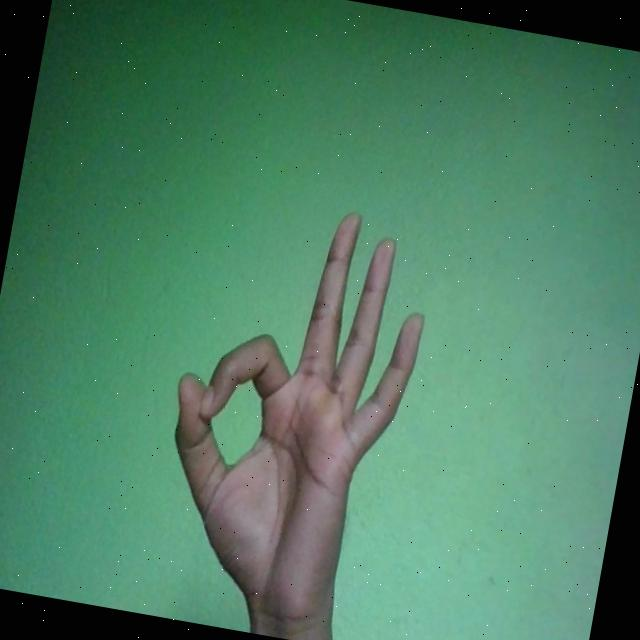Rock On: (139, 187, 441, 640)
